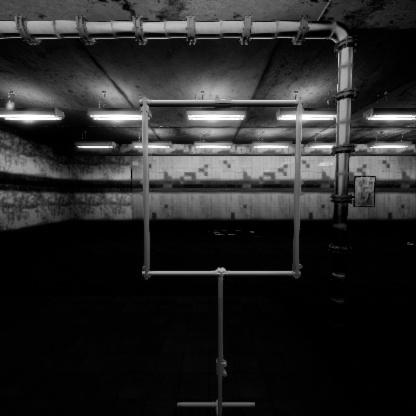gate: (142, 138, 317, 316)
